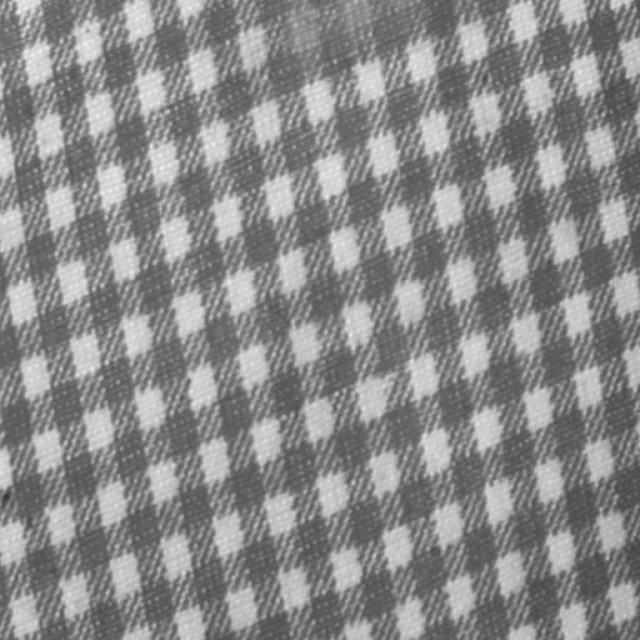Stain-Defect: (285, 1, 421, 46)
